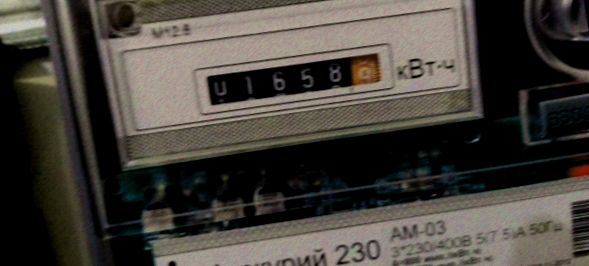0: (209, 74, 229, 97)
1: (239, 71, 257, 97)
5: (297, 64, 316, 90)
6: (268, 67, 290, 93)
8: (325, 59, 345, 84)
9: (354, 63, 373, 86)
screen: (189, 34, 401, 123)
